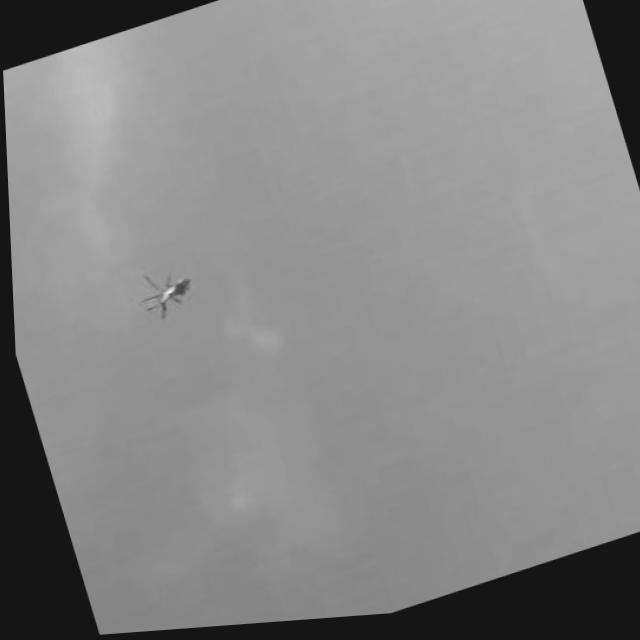helikopter: (119, 258, 208, 334)
